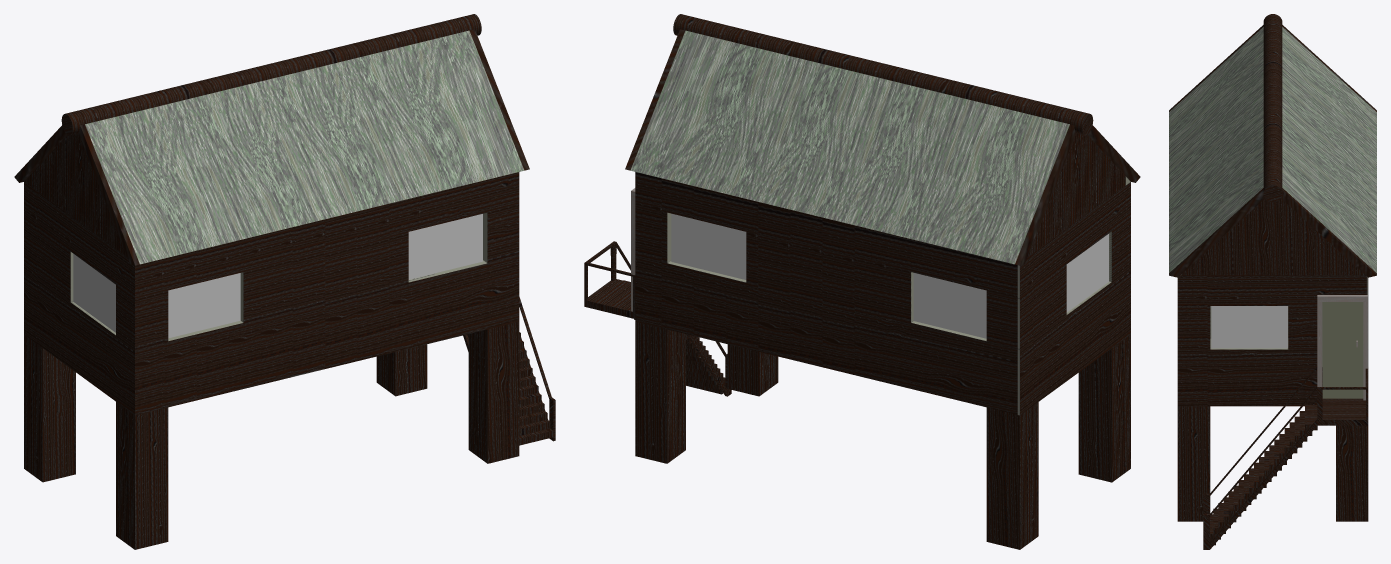
File: MudHouse.fbx
3 views of the same model, side by side, from view 1: azimuth 30°, elevation 25°; view 2: azimuth 150°, elevation 25°; view 3: azimuth 270°, elevation 25° (orthographic). The views are drawn at different scales.
Visible parts, largest first — view 1: Stair.001; view 2: Stair.001; view 3: Stair.001.
Part boxes in pixels (bbox=[...]): Stair.001: bbox=[14, 14, 555, 549]; Stair.001: bbox=[584, 14, 1140, 549]; Stair.001: bbox=[1169, 14, 1376, 549].
Size of the model in its own units: 6.99 by 6.05 by 3.27.
